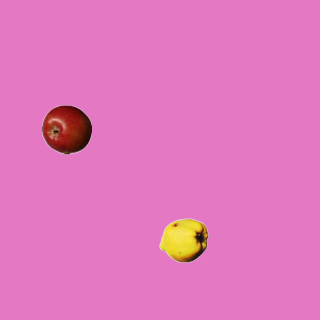Apple Braeburn: (41, 104, 91, 154)
Quince: (158, 215, 208, 265)
